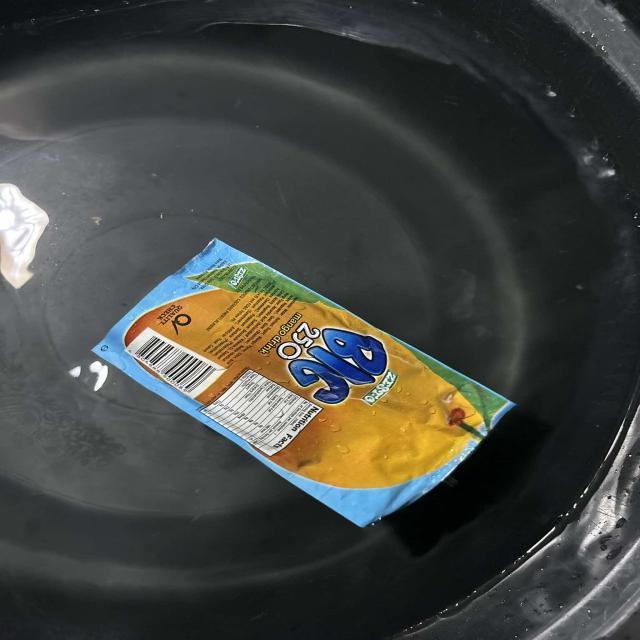Plastic Pouch: (76, 232, 534, 554)
